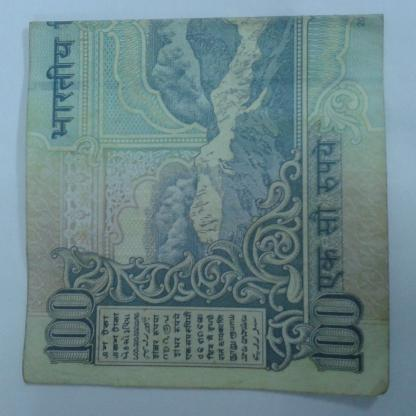Old100Back: (20, 13, 394, 398)
